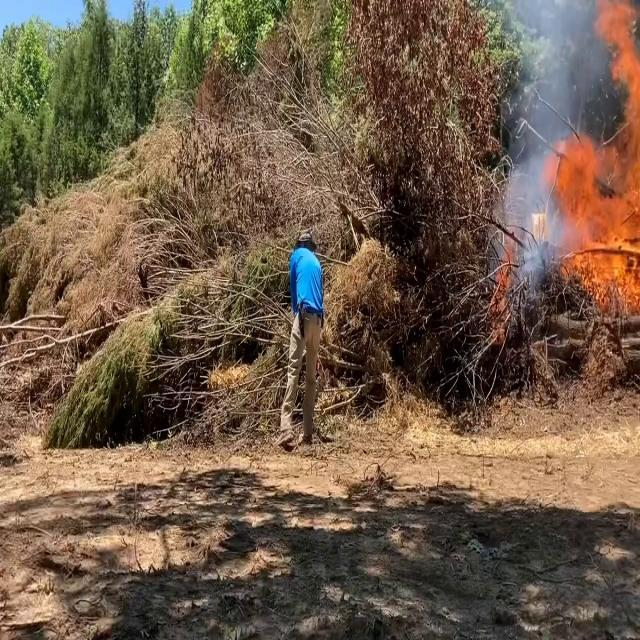Fire: (542, 2, 640, 316)
Smoke: (491, 1, 599, 288)
